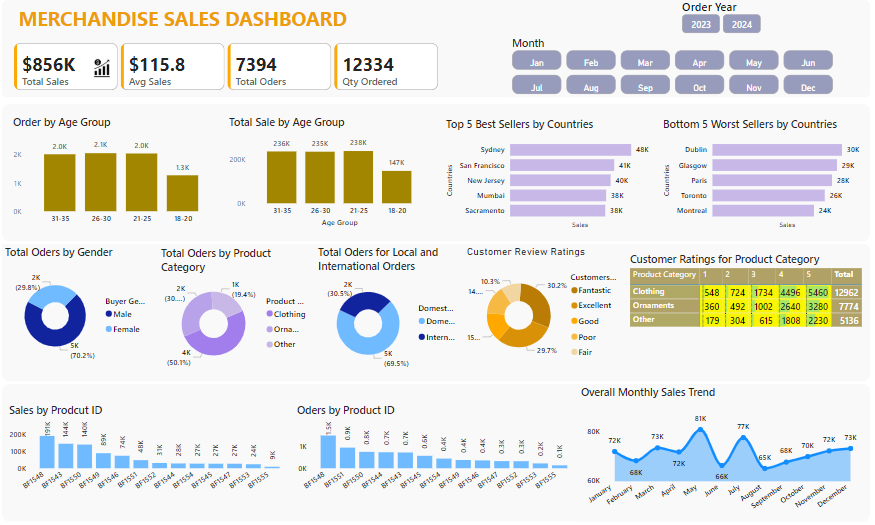

What the dashboard file says about the page in this screenshot:
{"tool":"powerbi","page":{"name":"Page 1","canvas":[1800,900],"ordinal":0},"visuals":[{"type":"shape","box":[70.2,14.9,1423.4,159.6],"z":0},{"type":"shape","box":[1502.1,8.5,283,400],"z":1000},{"type":"shape","box":[70.2,185.1,1423.4,225.5],"z":2000},{"type":"shape","box":[70.2,414.9,1423.4,225.5],"z":3000},{"type":"shape","box":[70.2,644.7,1423.4,225.5],"z":4000},{"type":"cardVisual","fields":{"Data":["Sum(Data.Total Sales)","Data.Avg Sales","Data.Total Oders","Sum(Data.Quantity)"]},"box":[85.1,80.9,708.5,87.2],"z":5000},{"type":"columnChart","title":"Order by Age Group","fields":{"Category":["Data.Age Group"],"Y":["Data.Total Oders"]},"box":[83,202.1,342.6,189.4],"z":6000},{"type":"columnChart","title":"Total Sale by Age Group","fields":{"Category":["Data.Age Group"],"Y":["Sum(Data.Total Sales)"]},"box":[438.3,202.1,336.2,189.4],"z":7000},{"type":"barChart","title":"Top 5 Best Sellers by Countries","fields":{"Y":["Sum(Data.Total Sales)"],"Category":["Data.Order Location"]},"box":[793.6,204.3,344.7,189.4],"z":8000},{"type":"barChart","title":"Bottom 5 Worst Sellers by Countries","fields":{"Y":["Sum(Data.Total Sales)"],"Category":["Data.Order Location"]},"box":[1148.9,204.3,336.2,189.4],"z":9000},{"type":"donutChart","title":"Total Oders by Gender","fields":{"Category":["Data.Buyer Gender"],"Y":["Data.Total Oders"]},"box":[70.2,414.9,255.3,212.8],"z":10000},{"type":"donutChart","fields":{"Y":["Data.Total Oders"],"Category":["Data.Product Category"]},"box":[326.2,416.7,257.1,211.9],"z":11000},{"type":"pivotTable","title":"Customer Ratings for Product Category","fields":{"Rows":["Data.Product Category"],"Columns":["Data.Rating"],"Values":["Sum(Data.Rating)"]},"box":[1095.2,421.4,397.6,159.5],"z":12000},{"type":"columnChart","title":"Sales by Prodcut ID","fields":{"Category":["Data.Product ID"],"Y":["Sum(Data.Total Sales)"]},"box":[76.6,674.5,466,159.6],"z":13000},{"type":"columnChart","title":"Oders by Product ID","fields":{"Category":["Data.Product ID"],"Y":["Data.Total Oders"]},"box":[548.9,674.5,466,159.6],"z":14000},{"type":"donutChart","title":"Customer Review Ratings","fields":{"Y":["CountNonNull(Data.Product Category)"],"Category":["Data.Customers Rating"]},"box":[828.6,416.7,266.7,211.9],"z":15000},{"type":"shape","box":[1501.9,413.5,284.6,455.8],"z":16000},{"type":"textbox","box":[76.9,17.3,578.8,53.8],"z":17000},{"type":"donutChart","title":"Total Oders for Local and International Orders","fields":{"Category":["Data.Domestic or International Orders"],"Y":["Data.Total Oders"]},"box":[583.3,414.3,245.2,214.3],"z":18000},{"type":"advancedSlicerVisual","fields":{"Values":["Data.Order Year"]},"box":[1180.9,12.8,206.4,61.7],"z":19000},{"type":"lineChart","title":"Overall Monthly Sales Trend","fields":{"Y":["Sum(Data.Total Sales)"],"Category":["Data.Order Date.Variation.Date Hierarchy.Month"]},"box":[1014.9,644.7,466,225.5],"z":20000},{"type":"advancedSlicerVisual","title":"Month","fields":{"Values":["Data.Order Month"]},"box":[902.1,72.3,538.3,102.1],"z":21000},{"type":"textbox","box":[1508.6,8.6,101.7,36.2],"z":22000},{"type":"textbox","box":[1508.9,41.1,269.6,360.7],"z":23000},{"type":"textbox","box":[1519.2,426.9,132.7,36.5],"z":24000},{"type":"textbox","box":[1505.3,457.9,277.2,396.5],"z":25000}]}

Visuals, with their boxes on the page's 1800x900 design canvas (x1, y1, x2, y2). These are canvas units, not pixel positions in the 875x525 screenshot, which may show the page scaled, cropped or inside an application window:
shape: pyautogui.locateOnScreen(70, 15, 1494, 174)
shape: pyautogui.locateOnScreen(1502, 8, 1785, 408)
shape: pyautogui.locateOnScreen(70, 185, 1494, 411)
shape: pyautogui.locateOnScreen(70, 415, 1494, 640)
shape: pyautogui.locateOnScreen(70, 645, 1494, 870)
cardVisual - Sum(Data.Total Sales) x Data.Avg Sales: pyautogui.locateOnScreen(85, 81, 794, 168)
"Order by Age Group" columnChart: pyautogui.locateOnScreen(83, 202, 426, 392)
"Total Sale by Age Group" columnChart: pyautogui.locateOnScreen(438, 202, 774, 392)
"Top 5 Best Sellers by Countries" barChart: pyautogui.locateOnScreen(794, 204, 1138, 394)
"Bottom 5 Worst Sellers by Countries" barChart: pyautogui.locateOnScreen(1149, 204, 1485, 394)
"Total Oders by Gender" donutChart: pyautogui.locateOnScreen(70, 415, 326, 628)
donutChart - Data.Total Oders x Data.Product Category: pyautogui.locateOnScreen(326, 417, 583, 629)
"Customer Ratings for Product Category" pivotTable: pyautogui.locateOnScreen(1095, 421, 1493, 581)
"Sales by Prodcut ID" columnChart: pyautogui.locateOnScreen(77, 674, 543, 834)
"Oders by Product ID" columnChart: pyautogui.locateOnScreen(549, 674, 1015, 834)
"Customer Review Ratings" donutChart: pyautogui.locateOnScreen(829, 417, 1095, 629)
shape: pyautogui.locateOnScreen(1502, 414, 1786, 869)
textbox: pyautogui.locateOnScreen(77, 17, 656, 71)
"Total Oders for Local and International Orders" donutChart: pyautogui.locateOnScreen(583, 414, 828, 629)
advancedSlicerVisual - Data.Order Year: pyautogui.locateOnScreen(1181, 13, 1387, 74)
"Overall Monthly Sales Trend" lineChart: pyautogui.locateOnScreen(1015, 645, 1481, 870)
"Month" advancedSlicerVisual: pyautogui.locateOnScreen(902, 72, 1440, 174)
textbox: pyautogui.locateOnScreen(1509, 9, 1610, 45)
textbox: pyautogui.locateOnScreen(1509, 41, 1778, 402)
textbox: pyautogui.locateOnScreen(1519, 427, 1652, 463)
textbox: pyautogui.locateOnScreen(1505, 458, 1782, 854)
